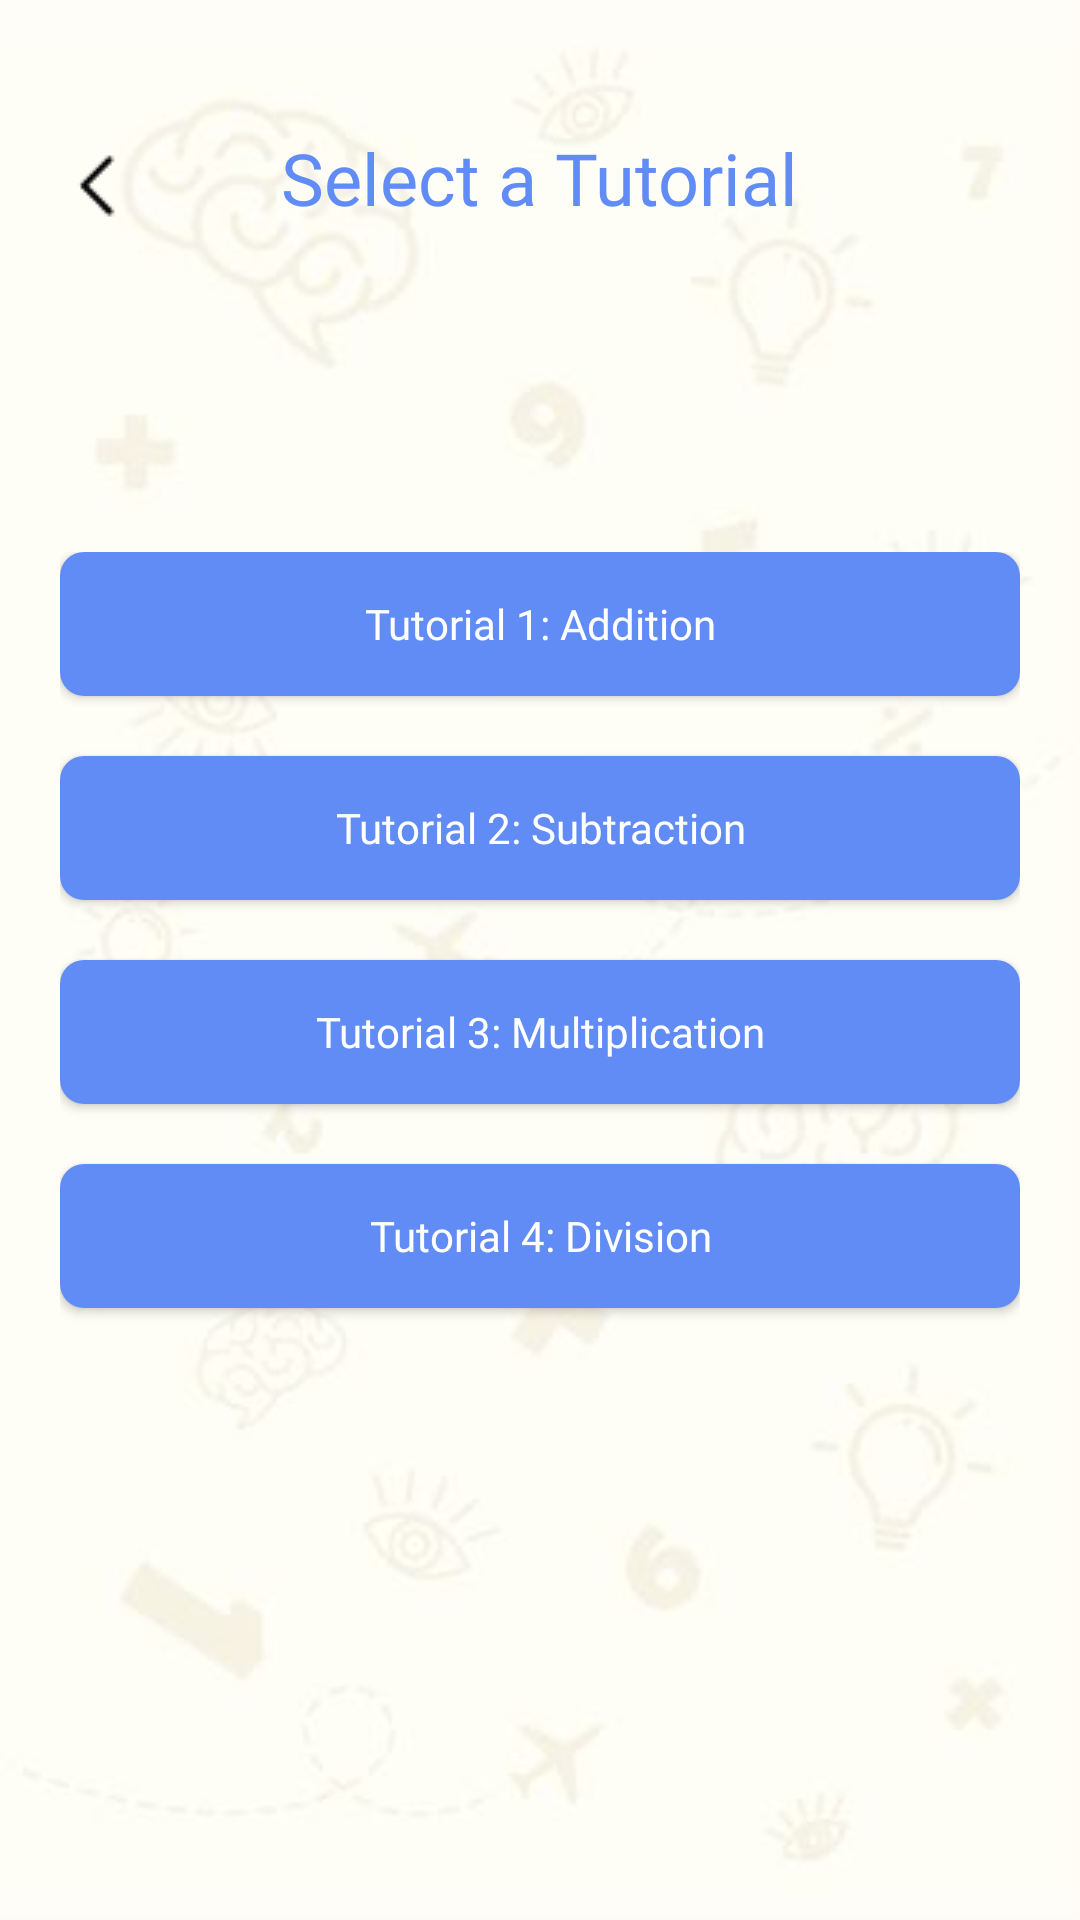

Locate icon controls on the screen. Image size 1080 × 1920, boxes as BBox(x1, y1, x2, y2).
back: BBox(80, 155, 115, 217)
